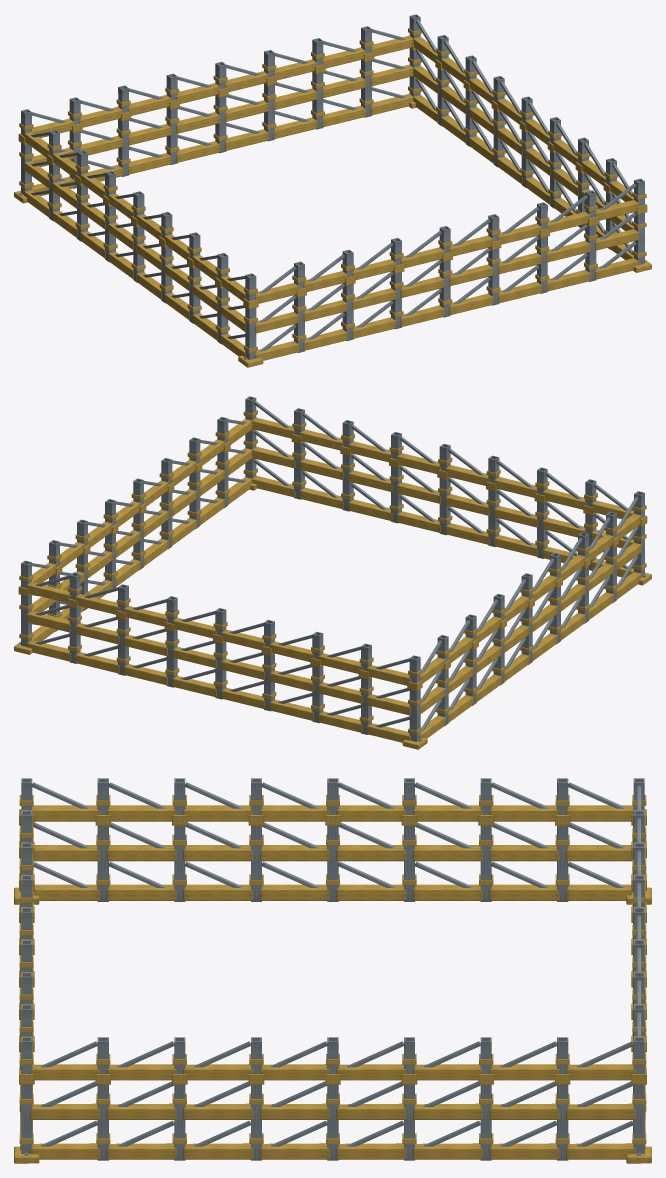
The picture shows the model from 3 angles, top to bottom: view 1: azimuth 30°, elevation 25°; view 2: azimuth 150°, elevation 25°; view 3: azimuth 270°, elevation 25°; orthographic projection. The views are drawn at different scales.
Visible parts, largest first — view 1: Tier 0 bay 2-0-1 service deck, Tier 0 bay 2-0-4 service deck, Tier 0 bay 2-1-4 service deck, Tier 0 bay 2-1-3 service deck, Tier 0 bay 2-0-2 service deck, Tier 0 bay 2-0-3 service deck, Tier 0 bay 2-1-1 service deck, Tier 0 bay 2-1-2 service deck, Tier 0 bay 0-1-6 service deck, Tier 0 bay 0-0-6 service deck, Tier 0 bay 0-1-0 service deck, Tier 0 bay 0-1-7 service deck (+31 smaller); view 2: Tier 0 bay 0-0-3 service deck, Tier 0 bay 0-0-6 service deck, Tier 0 bay 0-1-6 service deck, Tier 0 bay 2-0-5 service deck, Tier 0 bay 2-1-0 service deck, Tier 0 bay 2-1-2 service deck, Tier 0 bay 2-1-5 service deck, Tier 0 bay 0-0-4 service deck, Tier 0 bay 0-1-3 service deck, Tier 0 bay 2-0-1 service deck, Tier 0 bay 2-0-2 service deck, Tier 0 bay 2-0-3 service deck (+31 smaller); view 3: Tier 0 bay 3-1-6 service deck, Tier 0 bay 3-1-1 service deck, Tier 0 bay 1-0-6 service deck, Tier 0 bay 1-0-1 service deck, Tier 0 bay 3-1-2 service deck, Tier 0 bay 3-1-3 service deck, Tier 0 bay 3-1-4 service deck, Tier 0 bay 3-1-5 service deck, Tier 0 bay 3-0-6 service deck, Tier 0 bay 3-0-1 service deck, Tier 0 bay 1-0-2 service deck, Tier 0 bay 1-0-4 service deck (+52 smaller).
Boxes of the visible parts, x1=… form: Tier 0 bay 2-0-1 service deck: x1=322, y1=105, x2=366, y2=127; Tier 0 bay 2-0-4 service deck: x1=176, y1=141, x2=220, y2=162; Tier 0 bay 2-1-4 service deck: x1=176, y1=112, x2=220, y2=133; Tier 0 bay 2-1-3 service deck: x1=225, y1=100, x2=269, y2=121; Tier 0 bay 2-0-2 service deck: x1=273, y1=117, x2=317, y2=138; Tier 0 bay 2-0-3 service deck: x1=225, y1=129, x2=269, y2=150; Tier 0 bay 2-1-1 service deck: x1=322, y1=76, x2=366, y2=98; Tier 0 bay 2-1-2 service deck: x1=273, y1=88, x2=317, y2=109; Tier 0 bay 0-1-6 service deck: x1=546, y1=241, x2=590, y2=262; Tier 0 bay 0-0-6 service deck: x1=546, y1=270, x2=590, y2=291; Tier 0 bay 0-1-0 service deck: x1=255, y1=312, x2=299, y2=333; Tier 0 bay 0-1-7 service deck: x1=595, y1=229, x2=639, y2=250; Tier 0 bay 0-0-3 service deck: x1=445, y1=523, x2=489, y2=544; Tier 0 bay 0-0-6 service deck: x1=299, y1=487, x2=343, y2=509; Tier 0 bay 0-1-6 service deck: x1=299, y1=458, x2=343, y2=480; Tier 0 bay 2-0-5 service deck: x1=269, y1=699, x2=313, y2=720; Tier 0 bay 2-1-0 service deck: x1=26, y1=611, x2=70, y2=632; Tier 0 bay 2-1-2 service deck: x1=123, y1=635, x2=167, y2=656; Tier 0 bay 2-1-5 service deck: x1=269, y1=670, x2=313, y2=691; Tier 0 bay 0-0-4 service deck: x1=396, y1=511, x2=440, y2=532; Tier 0 bay 0-1-3 service deck: x1=445, y1=494, x2=489, y2=515; Tier 0 bay 2-0-1 service deck: x1=75, y1=652, x2=119, y2=673; Tier 0 bay 2-0-2 service deck: x1=123, y1=664, x2=167, y2=685; Tier 0 bay 2-0-3 service deck: x1=172, y1=676, x2=216, y2=697; Tier 0 bay 3-1-6 service deck: x1=106, y1=845, x2=176, y2=861; Tier 0 bay 3-1-1 service deck: x1=489, y1=845, x2=559, y2=861; Tier 0 bay 1-0-6 service deck: x1=489, y1=1143, x2=559, y2=1159; Tier 0 bay 1-0-1 service deck: x1=106, y1=1143, x2=176, y2=1159; Tier 0 bay 3-1-2 service deck: x1=413, y1=845, x2=482, y2=861; Tier 0 bay 3-1-3 service deck: x1=336, y1=845, x2=405, y2=861; Tier 0 bay 3-1-4 service deck: x1=260, y1=845, x2=329, y2=861; Tier 0 bay 3-1-5 service deck: x1=183, y1=845, x2=252, y2=861; Tier 0 bay 3-0-6 service deck: x1=106, y1=884, x2=176, y2=900; Tier 0 bay 3-0-1 service deck: x1=489, y1=884, x2=559, y2=900; Tier 0 bay 1-0-2 service deck: x1=183, y1=1143, x2=252, y2=1159; Tier 0 bay 1-0-4 service deck: x1=336, y1=1143, x2=405, y2=1159.
Bounding box in the file's own units: 3.75 × 0.7714 × 3.75.
2 materials, 2 textured.
